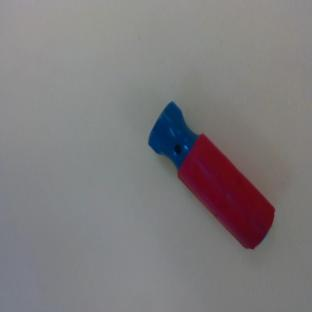part_2_good: (137, 100, 285, 253)
